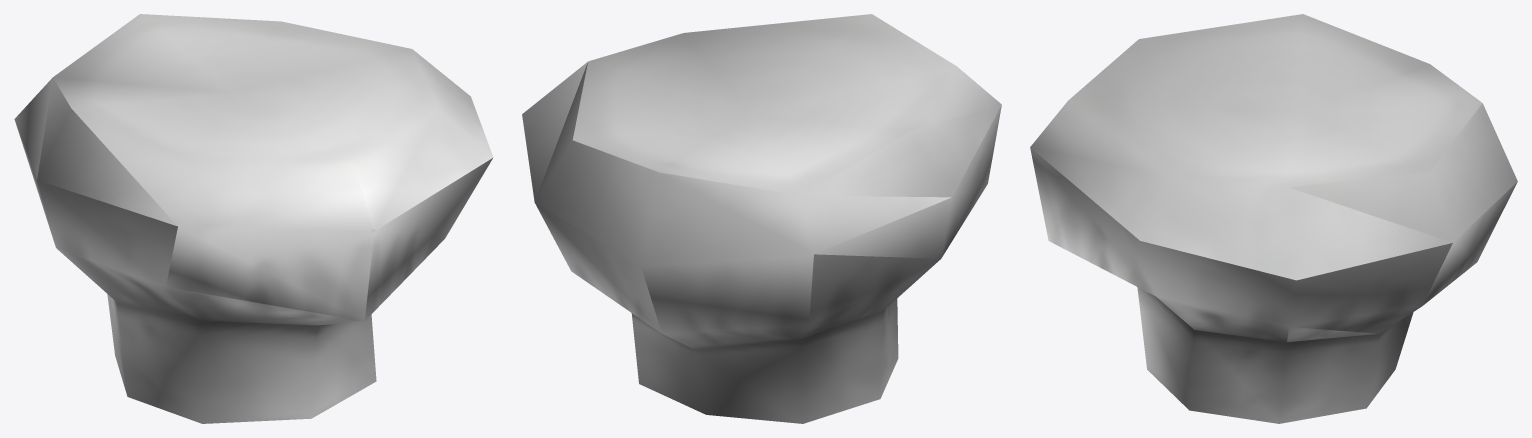
Rendered from tt_m_chr_avt_acc_hat_chefsHat.glb.
3 renders of one model, left to right at view 1: azimuth 30°, elevation 25°; view 2: azimuth 150°, elevation 25°; view 3: azimuth 270°, elevation 25°, orthographic. The views are drawn at different scales.
Visible parts, largest first — view 1: tt_m_chr_avt_acc_hat_chefsHat; view 2: tt_m_chr_avt_acc_hat_chefsHat; view 3: tt_m_chr_avt_acc_hat_chefsHat.
Boxes of the visible parts, x1,y1,x2,y2 form: tt_m_chr_avt_acc_hat_chefsHat: (14, 14, 493, 423); tt_m_chr_avt_acc_hat_chefsHat: (522, 14, 1001, 423); tt_m_chr_avt_acc_hat_chefsHat: (1030, 14, 1517, 423).
Size of the model in its own units: 5.52 by 3.53 by 5.56.
1 material, 1 textured.
